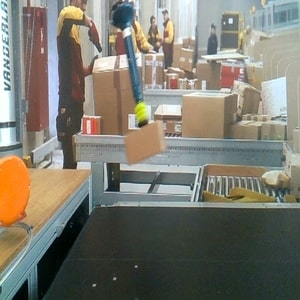box: (123, 120, 167, 166)
